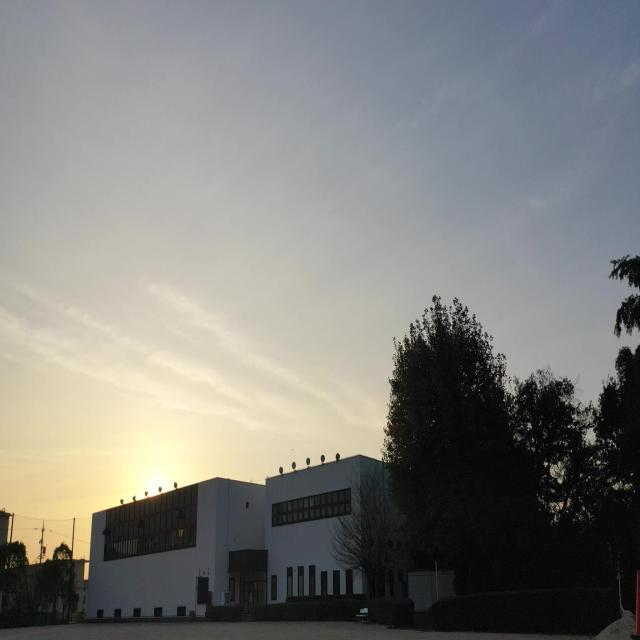Birds: (289, 446, 296, 454)
